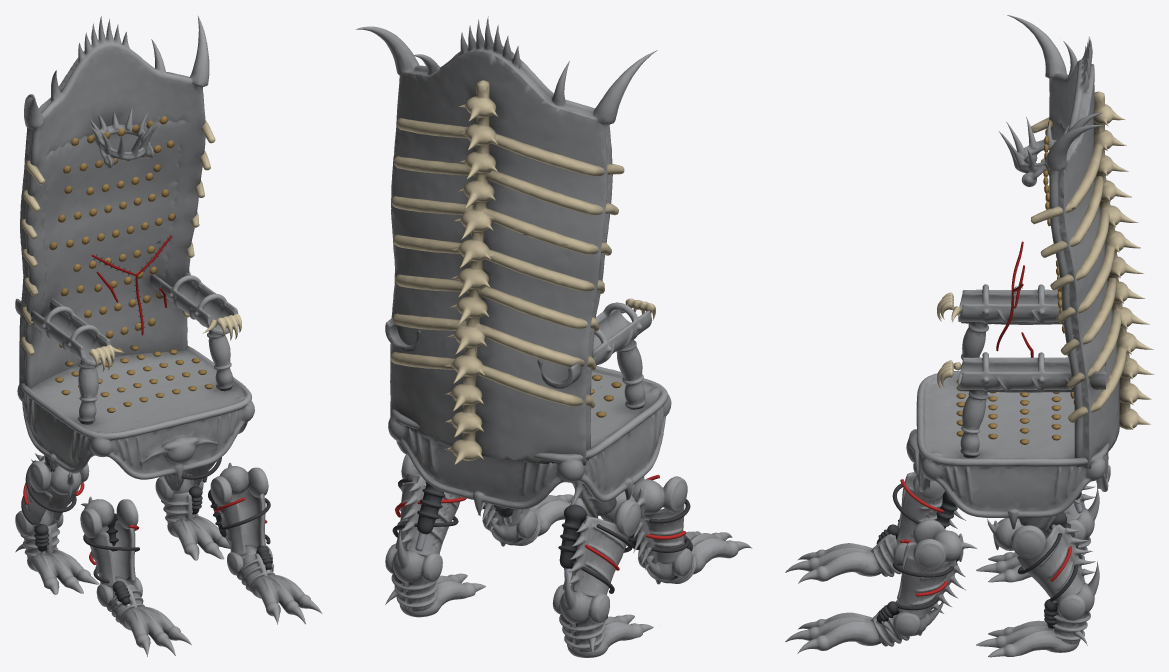
Rendered from chair-parts.glb.
3 renders of one model, left to right at view 1: azimuth 30°, elevation 25°; view 2: azimuth 150°, elevation 25°; view 3: azimuth 270°, elevation 25°, orthographic. The views are drawn at different scales.
Visible parts, largest first — view 1: spine|back, spine|seat, spine|arms, spine|studs, forearm.l|tibia, forearm.r|tibia, hand.r|toes, hand.l|toes, skull|crown, foot.r|toes, spine|bone, foot.l|toes (+16 smaller); view 2: spine|back, spine|bone, spine|seat, spine|arms, shin.r|tibia, shin.l|tibia, forearm.r|tibia, foot.l|hock, forearm.r|knee, foot.r|hock, foot.l|toes, foot.r|toes (+11 smaller); view 3: spine|seat, spine|back, spine|bone, spine|arms, shin.l|tibia, hand.l|toes, forearm.l|tibia, hand.r|toes, foot.l|toes, forearm.l|knee, spine|studs, shin.l|knee (+11 smaller).
Boxes of the visible parts, x1,y1,x2,y2 form: spine|back: (19, 16, 209, 392); spine|seat: (17, 346, 254, 485); spine|arms: (15, 272, 238, 424); spine|studs: (49, 116, 213, 412); forearm.l|tibia: (216, 488, 265, 555); forearm.r|tibia: (87, 520, 135, 587); hand.r|toes: (109, 600, 191, 656); hand.l|toes: (250, 563, 322, 624); skull|crown: (88, 107, 159, 168); foot.r|toes: (15, 544, 99, 594); spine|bone: (20, 120, 215, 355); foot.l|toes: (167, 515, 230, 560); spine|back: (355, 16, 657, 465); spine|bone: (390, 80, 624, 464); spine|seat: (388, 365, 671, 516); spine|arms: (385, 302, 651, 409); shin.r|tibia: (563, 516, 628, 597); shin.l|tibia: (395, 473, 461, 556); forearm.r|tibia: (633, 505, 684, 569); foot.l|hock: (385, 530, 442, 583); forearm.r|knee: (632, 476, 687, 518); foot.r|hock: (552, 572, 609, 624); foot.l|toes: (385, 573, 485, 617); foot.r|toes: (567, 614, 653, 657); spine|seat: (906, 371, 1110, 529); spine|back: (1007, 15, 1119, 468); spine|bone: (1030, 91, 1154, 429); spine|arms: (958, 284, 1106, 457); shin.l|tibia: (1017, 524, 1095, 602); hand.l|toes: (785, 612, 894, 653); forearm.l|tibia: (897, 541, 965, 618); hand.r|toes: (785, 543, 880, 583); foot.l|toes: (976, 620, 1087, 657); forearm.l|knee: (913, 519, 977, 570); spine|studs: (956, 120, 1074, 444); shin.l|knee: (987, 518, 1046, 558).
Size of the model in its own units: 0.7084 by 1.7 by 0.9983.
